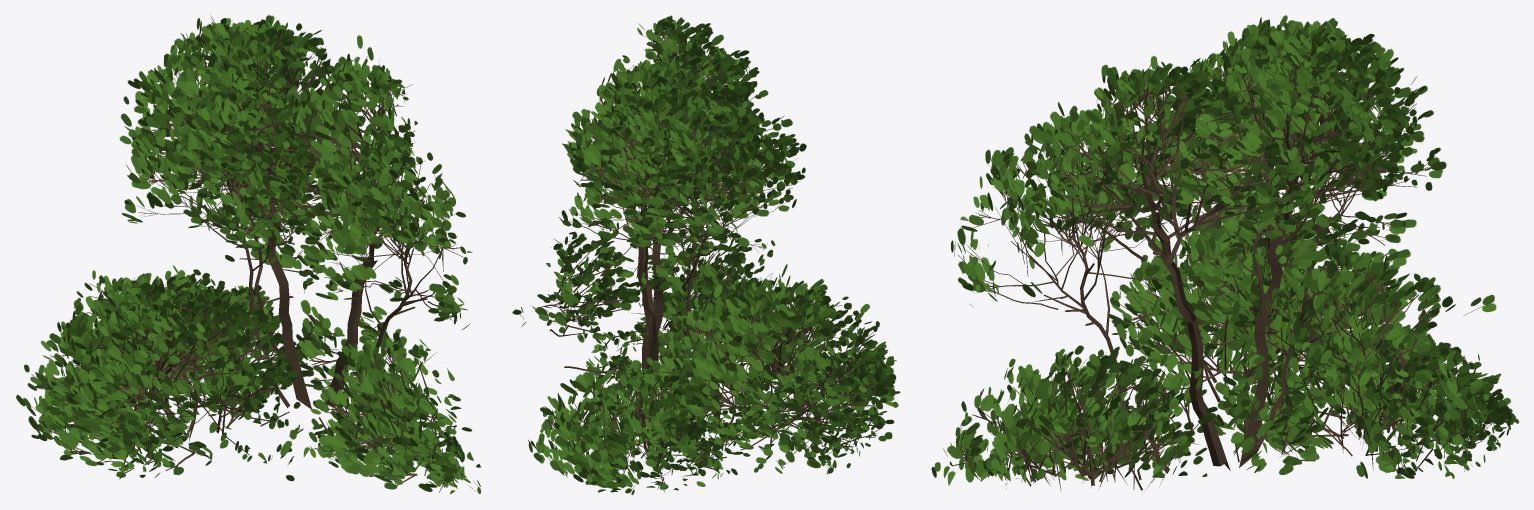
3 views of the same model, side by side, from view 1: azimuth 30°, elevation 25°; view 2: azimuth 150°, elevation 25°; view 3: azimuth 270°, elevation 25° (orthographic). The views are drawn at different scales.
Visible parts, largest first — view 1: oak 01.001_trunk_Mat.001_0.441; view 2: oak 01.001_trunk_Mat.001_0.441; view 3: oak 01.001_trunk_Mat.001_0.441.
Boxes of the visible parts, <box> form: oak 01.001_trunk_Mat.001_0.441: <box>16,14,480,494</box>; oak 01.001_trunk_Mat.001_0.441: <box>512,15,900,494</box>; oak 01.001_trunk_Mat.001_0.441: <box>931,15,1519,491</box>.
Size of the model in its own units: 2.89 by 3.5 by 4.19.
Materials: 2 (1 with a texture image).
